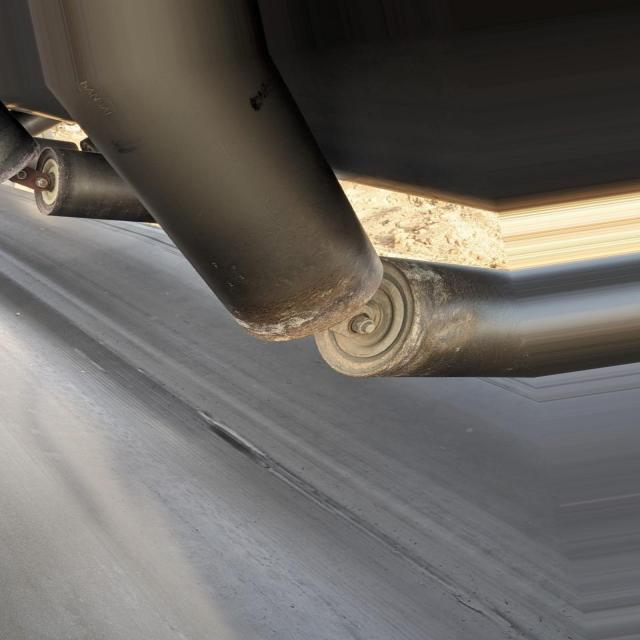Roller: (62, 55, 387, 342), (313, 253, 518, 378), (33, 148, 149, 223), (7, 107, 47, 187)
impact damage: (209, 417, 269, 458)
